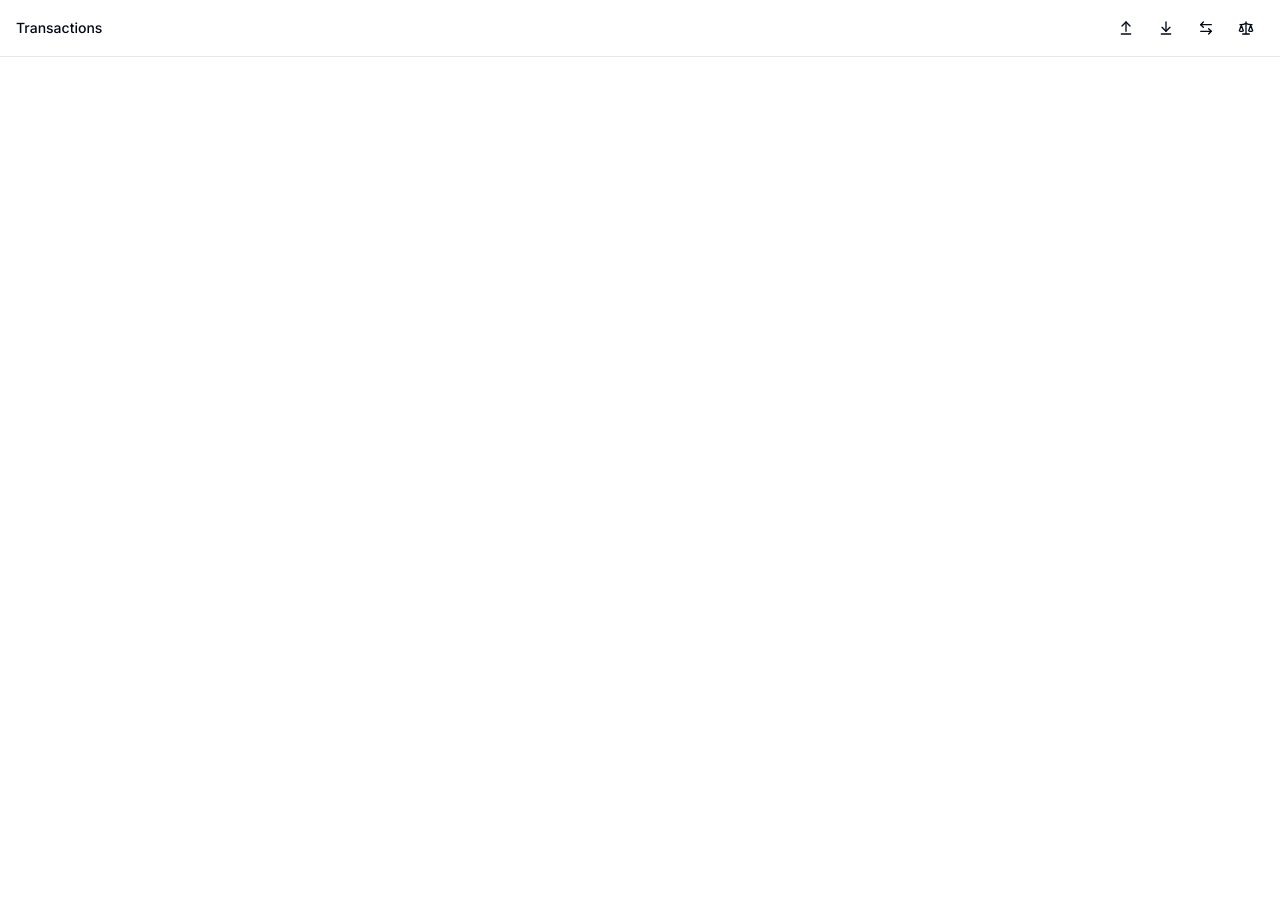
Test case: ControlBar › clicking "Add transfer" opens the transfer dialog
The width and height of the screenshot is (1280, 900).
Click the button named "add transfer".
click(1206, 28)  # box top-left (1188, 10), bottom-right (1224, 46)
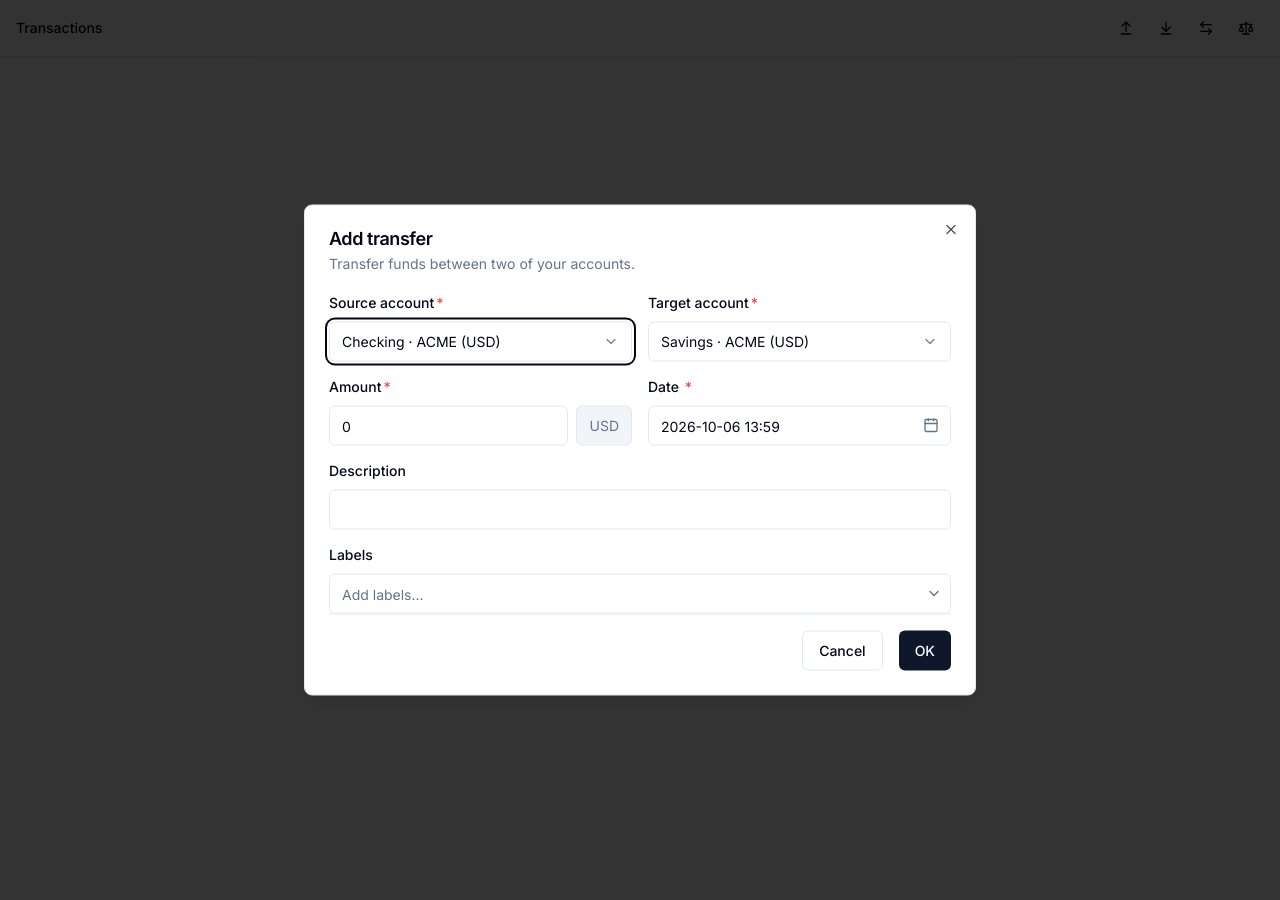
Check: the dialog "Add transfer" is shown, box top-left (304, 204), bottom-right (976, 696)
Check: the button "OK" is shown, box top-left (899, 630), bottom-right (951, 670)
